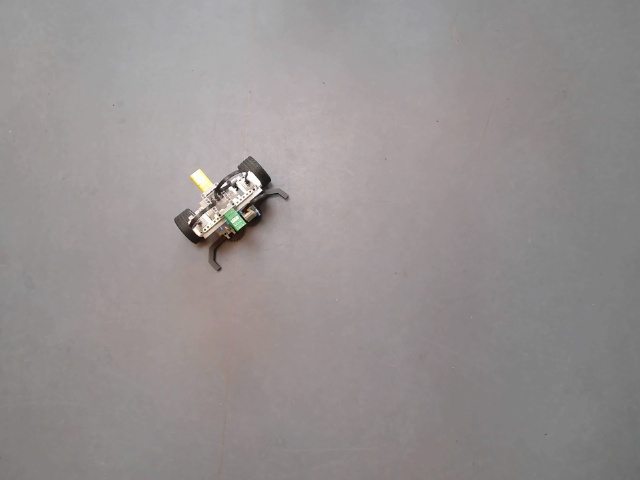green: (223, 206, 248, 231)
robot: (173, 154, 288, 273)
yellow: (190, 168, 213, 191)
